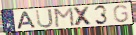3: (93, 5, 111, 26)
A: (16, 10, 38, 30)
G: (112, 4, 130, 24)
M: (54, 7, 76, 28)
U: (35, 8, 55, 29)
X: (72, 6, 94, 27)
